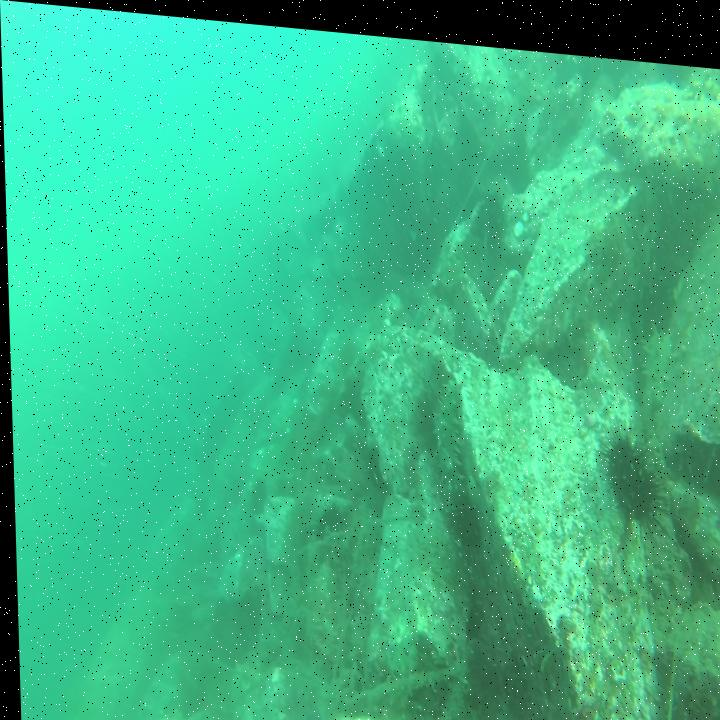echinus: (594, 403, 666, 527), (471, 176, 510, 243), (304, 499, 344, 544), (336, 328, 359, 376), (243, 470, 265, 519)
holothurian: (425, 363, 467, 500), (637, 308, 673, 410)
